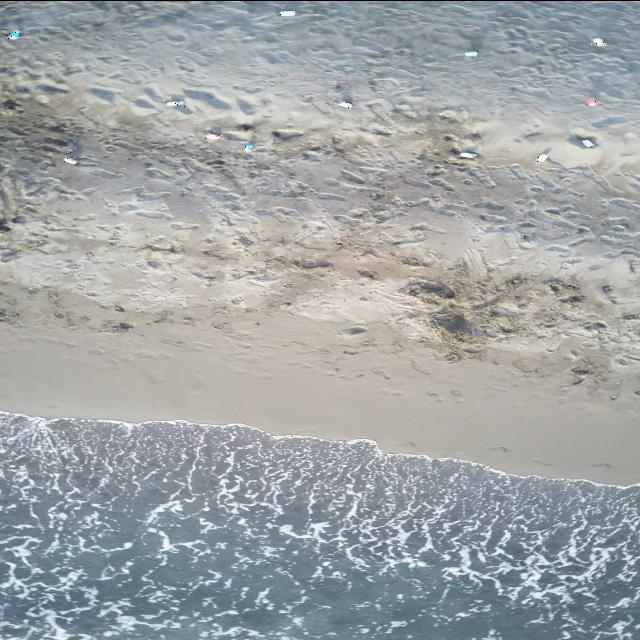Garbage: (272, 128, 303, 140), (580, 138, 595, 147), (592, 36, 606, 45), (207, 131, 221, 140), (280, 8, 295, 16), (7, 30, 20, 39), (459, 151, 475, 158), (536, 152, 547, 161), (166, 100, 183, 105), (337, 101, 351, 107), (64, 156, 76, 163), (584, 96, 595, 103), (464, 49, 477, 54), (244, 143, 252, 151)
